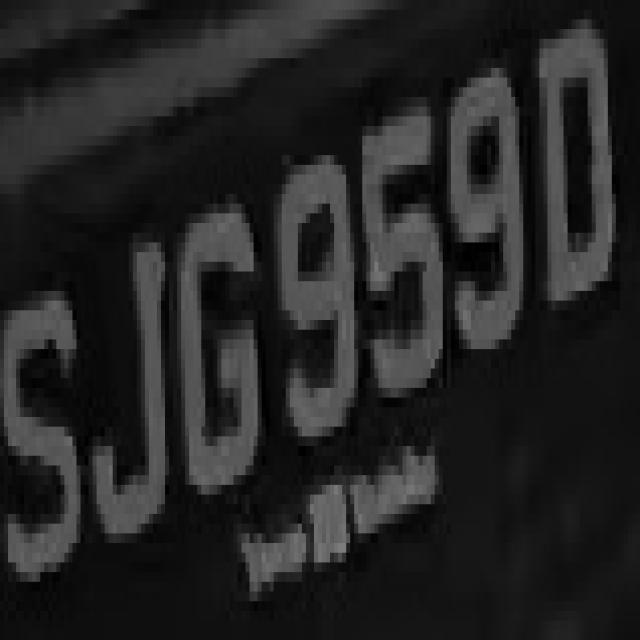5: (350, 78, 439, 426)
9: (443, 49, 535, 378), (270, 146, 362, 446)
D: (531, 19, 624, 330)
G: (177, 184, 270, 524)
J: (89, 223, 177, 562)
S: (8, 233, 81, 601)
